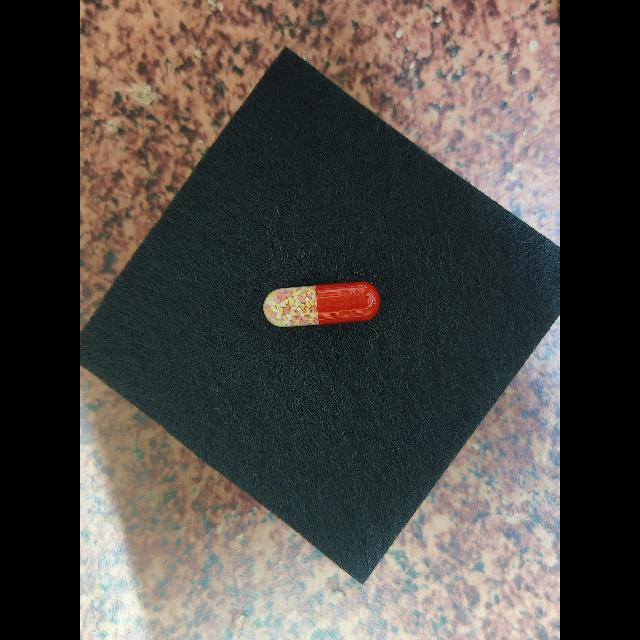Intact Capsule: (263, 281, 381, 327)
